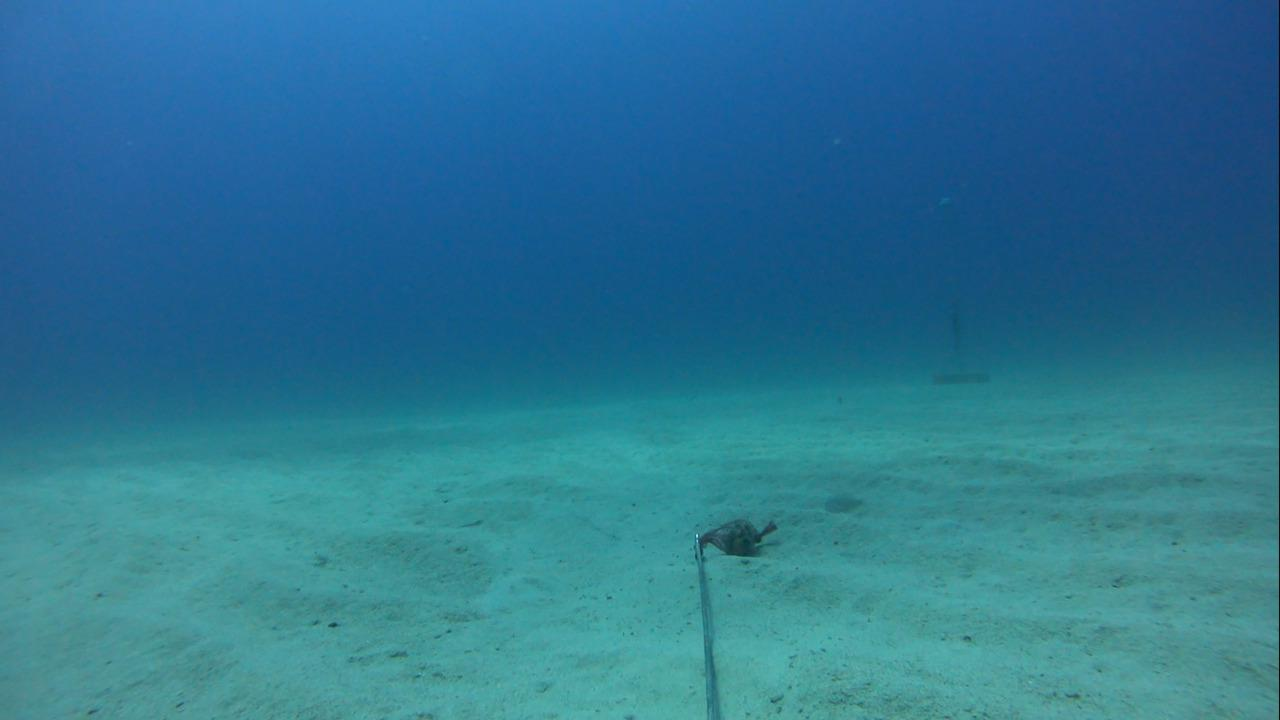raor: (816, 481, 873, 524)
